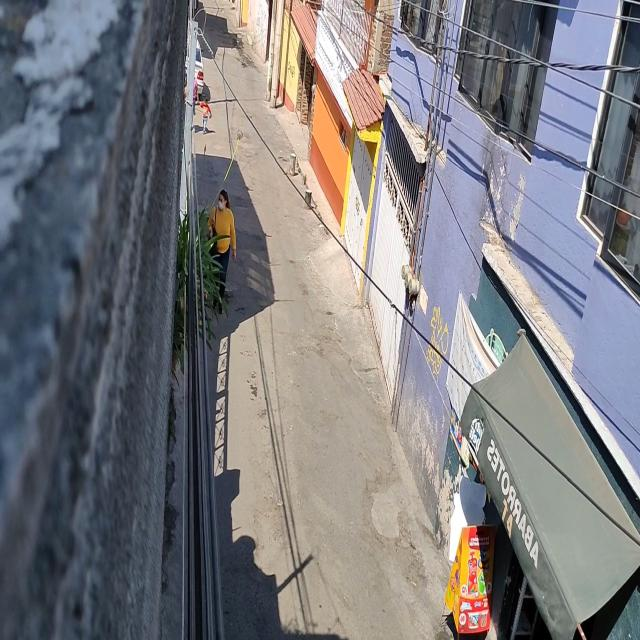adult: (207, 186, 237, 314), (198, 95, 212, 134)
